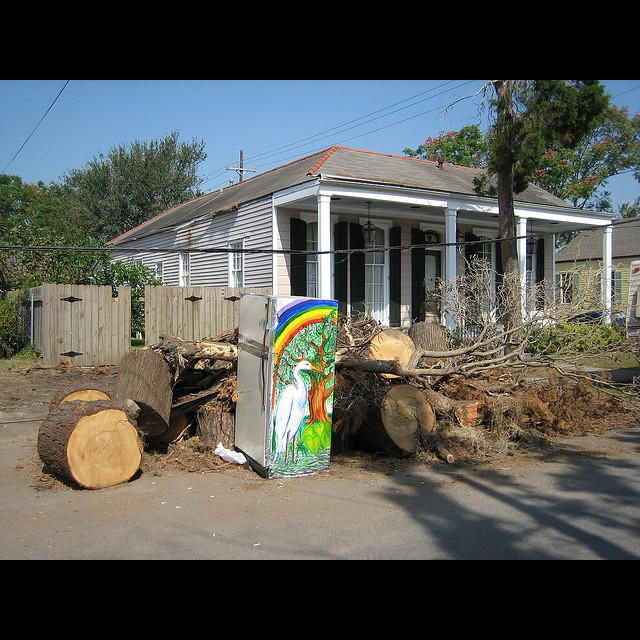Refrigerator: (233, 291, 339, 478)
